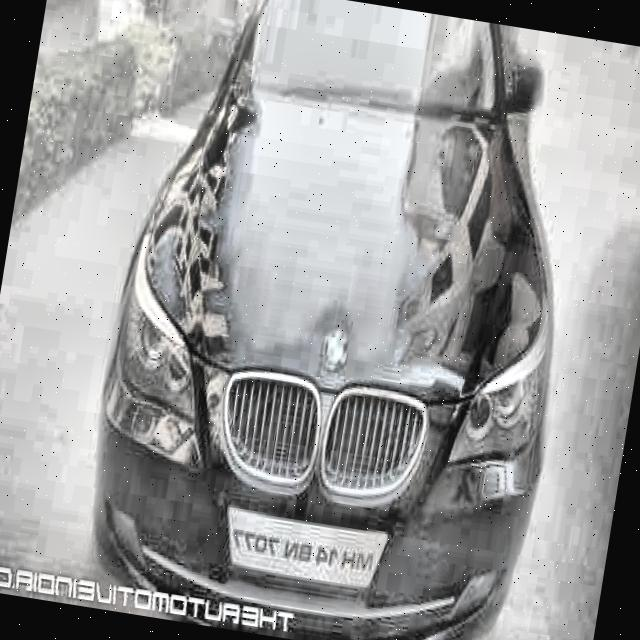license_plate: (225, 508, 386, 593)
